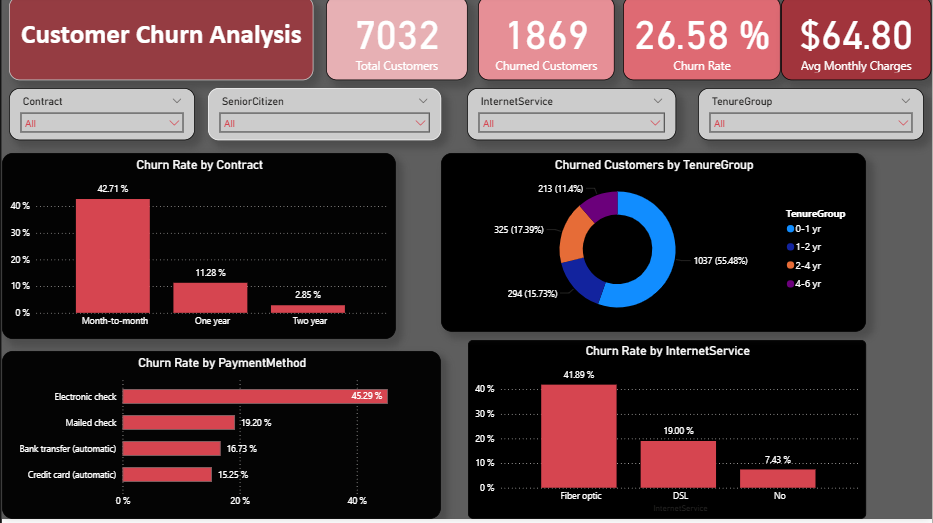

The dashboard page shown, as its layout file describes it:
{"tool":"powerbi","page":{"name":"Page 1","canvas":[1280,720],"ordinal":0},"visuals":[{"type":"textbox","box":[10.1,0,419.3,115.7],"z":0},{"type":"card","fields":{"Values":["churn_clean.Total Customers"]},"box":[445.3,0,195.2,115.7],"z":1000},{"type":"card","fields":{"Values":["churn_clean.Churned Customers"]},"box":[654.9,0,188,115.7],"z":2000},{"type":"card","fields":{"Values":["churn_clean.Churn Rate"]},"box":[854.7,0,217.5,115.6],"z":3000},{"type":"card","fields":{"Values":["churn_clean.Avg Monthly Charges"]},"box":[1072.8,0,206.7,115.7],"z":4000},{"type":"clusteredColumnChart","fields":{"Category":["churn_clean.Contract"],"Y":["churn_clean.Churn Rate"]},"box":[0,216.1,542.3,256],"z":5000},{"type":"clusteredColumnChart","fields":{"Category":["churn_clean.InternetService"],"Y":["churn_clean.Churn Rate"]},"box":[641.4,473.5,547.8,246.4],"z":6000},{"type":"clusteredBarChart","fields":{"Y":["churn_clean.Churn Rate"],"Category":["churn_clean.PaymentMethod"]},"box":[0,488.6,604.2,231.2],"z":7000},{"type":"slicer","fields":{"Values":["churn_clean.Contract"]},"box":[10.1,127.2,255.9,72.3],"z":9000},{"type":"slicer","fields":{"Values":["churn_clean.InternetService"]},"box":[640.5,127.2,287.7,72.3],"z":10000},{"type":"slicer","fields":{"Values":["churn_clean.SeniorCitizen"]},"box":[283.4,127.2,321,72.3],"z":11000},{"type":"slicer","fields":{"Values":["churn_clean.TenureGroup"]},"box":[958.6,127.2,310.8,72.3],"z":12000},{"type":"donutChart","fields":{"Category":["churn_clean.TenureGroup"],"Y":["churn_clean.Churned Customers"]},"box":[604.2,216.1,584.9,246.4],"z":14000}]}

Visuals, with their boxes in screenshot pixels (x1, y1, x2, y2), scaled from the page's 1280x720 canvas onto the 933x523 screenshot:
textbox: {"left": 7, "top": 0, "right": 313, "bottom": 84}
card - churn_clean.Total Customers: {"left": 325, "top": 0, "right": 467, "bottom": 84}
card - churn_clean.Churned Customers: {"left": 477, "top": 0, "right": 614, "bottom": 84}
card - churn_clean.Churn Rate: {"left": 623, "top": 0, "right": 782, "bottom": 84}
card - churn_clean.Avg Monthly Charges: {"left": 782, "top": 0, "right": 932, "bottom": 84}
clusteredColumnChart - churn_clean.Contract x churn_clean.Churn Rate: {"left": 0, "top": 157, "right": 395, "bottom": 343}
clusteredColumnChart - churn_clean.InternetService x churn_clean.Churn Rate: {"left": 468, "top": 344, "right": 867, "bottom": 522}
clusteredBarChart - churn_clean.Churn Rate x churn_clean.PaymentMethod: {"left": 0, "top": 355, "right": 440, "bottom": 522}
slicer - churn_clean.Contract: {"left": 7, "top": 92, "right": 194, "bottom": 145}
slicer - churn_clean.InternetService: {"left": 467, "top": 92, "right": 677, "bottom": 145}
slicer - churn_clean.SeniorCitizen: {"left": 207, "top": 92, "right": 441, "bottom": 145}
slicer - churn_clean.TenureGroup: {"left": 699, "top": 92, "right": 925, "bottom": 145}
donutChart - churn_clean.TenureGroup x churn_clean.Churned Customers: {"left": 440, "top": 157, "right": 867, "bottom": 336}
